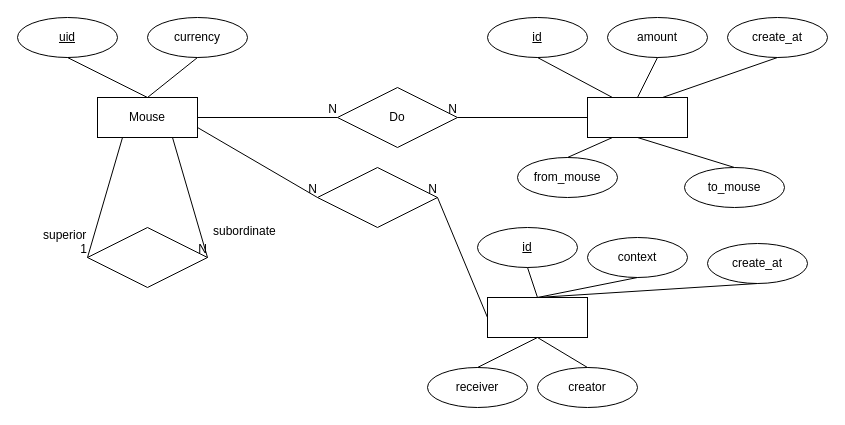
Image size: 845x425. Some labels were removed from this diagram. Here are the shapes that lost their labels. From the top down, the box of each, then its label:
(586, 96, 688, 138): Transaction
(316, 166, 438, 228): Received
(86, 226, 208, 288): Relationship
(486, 296, 588, 338): Notification
